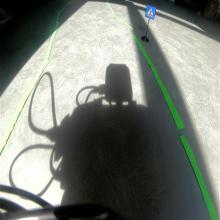crosswalk: (145, 5, 156, 20)
